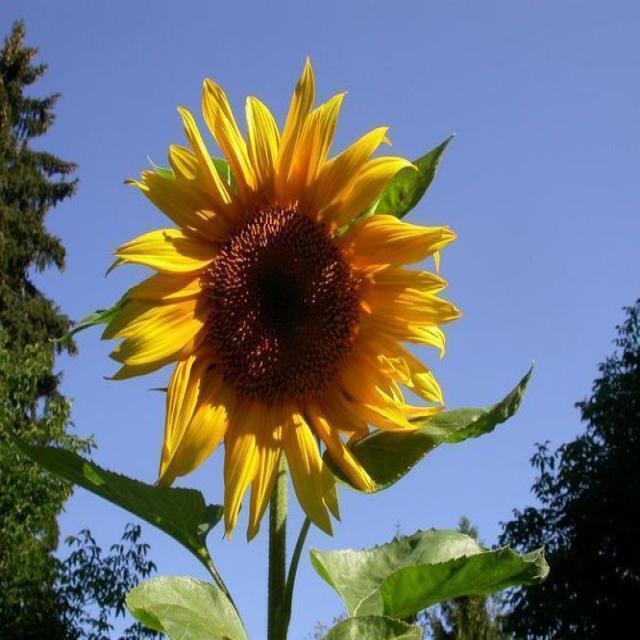sunflower: (97, 62, 467, 550)
